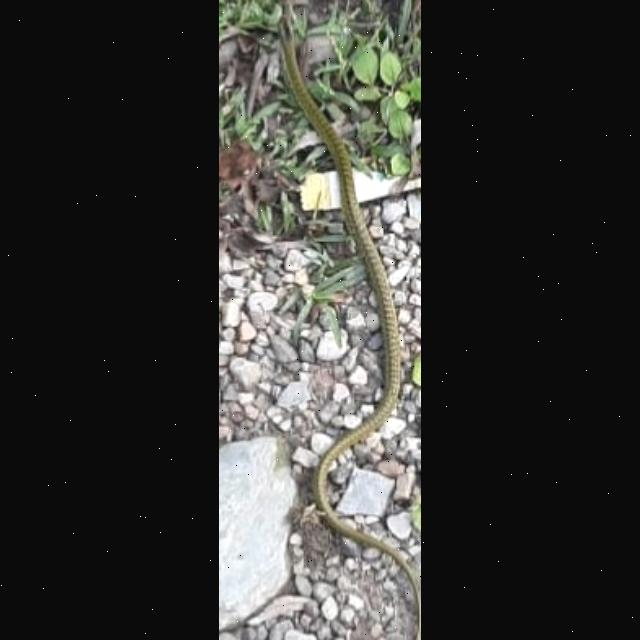snake: (270, 8, 408, 620)
